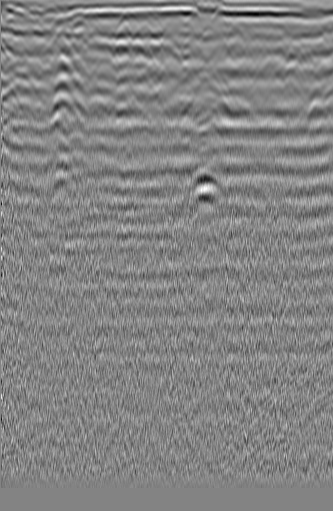가스: (187, 167, 226, 202)
상수: (283, 39, 310, 68)
오수: (3, 37, 33, 70)
우수: (149, 28, 181, 67)
